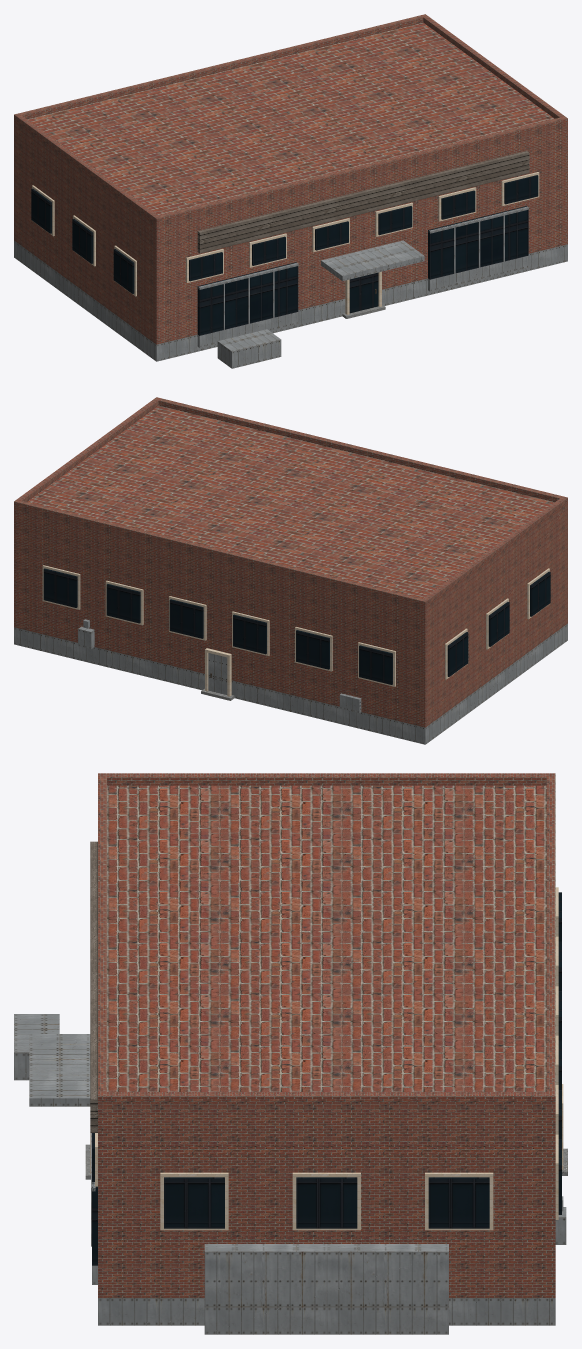
Rendered from maple-hardware-store_lod0.gltf.
3 views of the same model, one above another, from view 1: azimuth 30°, elevation 25°; view 2: azimuth 150°, elevation 25°; view 3: azimuth 270°, elevation 25° (orthographic). The views are drawn at different scales.
Visible parts, largest first — view 1: maple-hardware-store_upper, maple-hardware-store_fen_07-glass-curtain-blue_1_t, maple-hardware-store__sign_band, maple-hardware-store_base, maple-hardware-store_fen_14-steel-panel_0, maple-hardware-store__parapet_front, maple-hardware-store__parapet_back, maple-hardware-store_fen_04-limestone_2, maple-hardware-store__canopy, maple-hardware-store__cart_corral, maple-hardware-store__parapet_left, maple-hardware-store__parapet_right; view 2: maple-hardware-store_upper, maple-hardware-store_base, maple-hardware-store_fen_07-glass-curtain-blue_1_t, maple-hardware-store__parapet_back, maple-hardware-store__parapet_front, maple-hardware-store_fen_04-limestone_2, maple-hardware-store_fen_14-steel-panel_0, maple-hardware-store__parapet_left, maple-hardware-store__parapet_right; view 3: maple-hardware-store_upper, maple-hardware-store__lumber_rack, maple-hardware-store_fen_07-glass-curtain-blue_1_t, maple-hardware-store_base, maple-hardware-store__parapet_left, maple-hardware-store__parapet_right, maple-hardware-store_fen_04-limestone_2, maple-hardware-store__canopy, maple-hardware-store__parapet_back, maple-hardware-store__parapet_front, maple-hardware-store__sign_band, maple-hardware-store__cart_corral.
Boxes of the visible parts, x1,y1,x2,y2 form: maple-hardware-store_upper: (14,22,567,344); maple-hardware-store_fen_07-glass-curtain-blue_1_t: (31,175,538,335); maple-hardware-store__sign_band: (197,151,529,253); maple-hardware-store_base: (14,240,567,361); maple-hardware-store_fen_14-steel-panel_0: (197,206,528,347); maple-hardware-store__parapet_front: (153,116,567,223); maple-hardware-store__parapet_back: (14,14,427,121); maple-hardware-store_fen_04-limestone_2: (32,172,539,314); maple-hardware-store__canopy: (321,240,424,281); maple-hardware-store__cart_corral: (217,329,281,368); maple-hardware-store__parapet_left: (17,115,158,221); maple-hardware-store__parapet_right: (423,16,564,118); maple-hardware-store_upper: (14,405,567,727); maple-hardware-store_base: (14,623,567,744); maple-hardware-store_fen_07-glass-curtain-blue_1_t: (43,568,550,684); maple-hardware-store__parapet_back: (14,499,428,606); maple-hardware-store__parapet_front: (154,397,567,504); maple-hardware-store_fen_04-limestone_2: (42,565,549,696); maple-hardware-store_fen_14-steel-panel_0: (78,619,361,713); maple-hardware-store__parapet_left: (424,498,564,604); maple-hardware-store__parapet_right: (17,399,158,501); maple-hardware-store_upper: (98,785,555,1297); maple-hardware-store__lumber_rack: (204,1244,448,1334); maple-hardware-store_fen_07-glass-curtain-blue_1_t: (92,892,561,1265); maple-hardware-store_base: (98,1298,555,1325); maple-hardware-store__parapet_left: (107,773,546,785); maple-hardware-store__parapet_right: (107,1092,546,1104); maple-hardware-store_fen_04-limestone_2: (90,887,563,1230); maple-hardware-store__canopy: (29,1034,90,1106); maple-hardware-store__parapet_back: (546,773,555,1104); maple-hardware-store__parapet_front: (98,773,106,1104); maple-hardware-store__sign_band: (90,841,97,1132); maple-hardware-store__cart_corral: (14,1014,59,1080).
Bounding box in the file's own units: 25.9 × 8.3 × 18.15.
